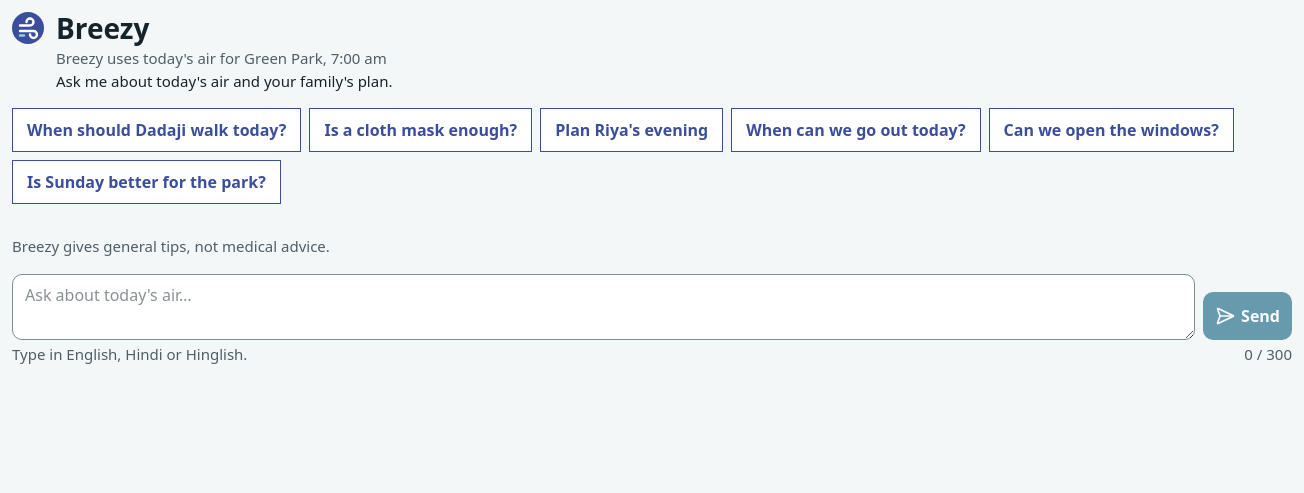
Test: chips and the client wait › says saving is paused when the write quota is used up
This screenshot has width=1304, height=493.
Type "Hi" into the text box named "Your question for Breezy".
click(604, 307); type("Hi")  # box [12,274,1195,340]
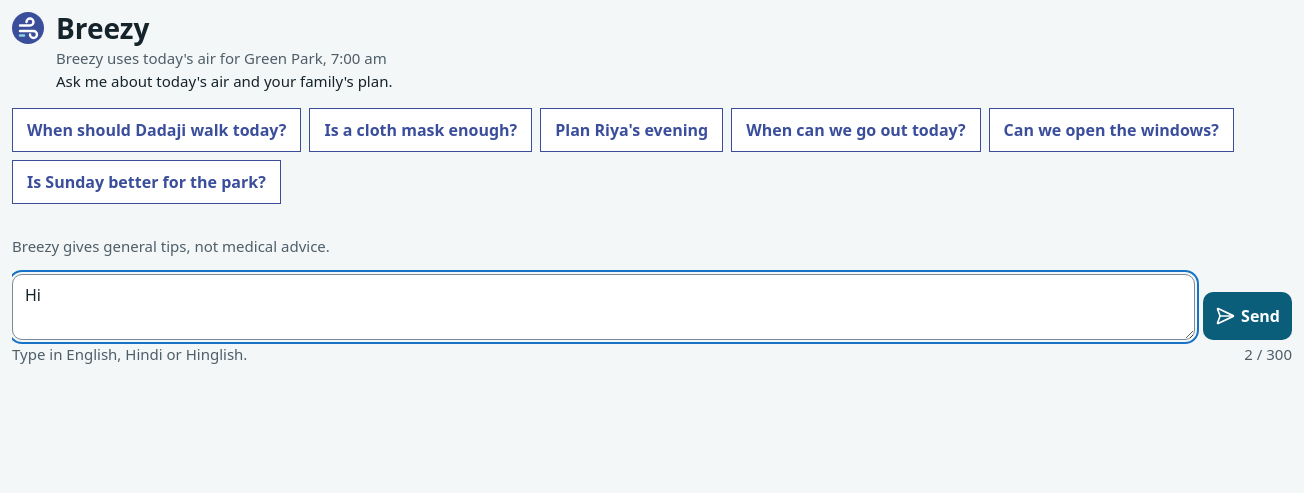
Click the button "Send".
click(1248, 316)  # box [1203,292,1292,340]
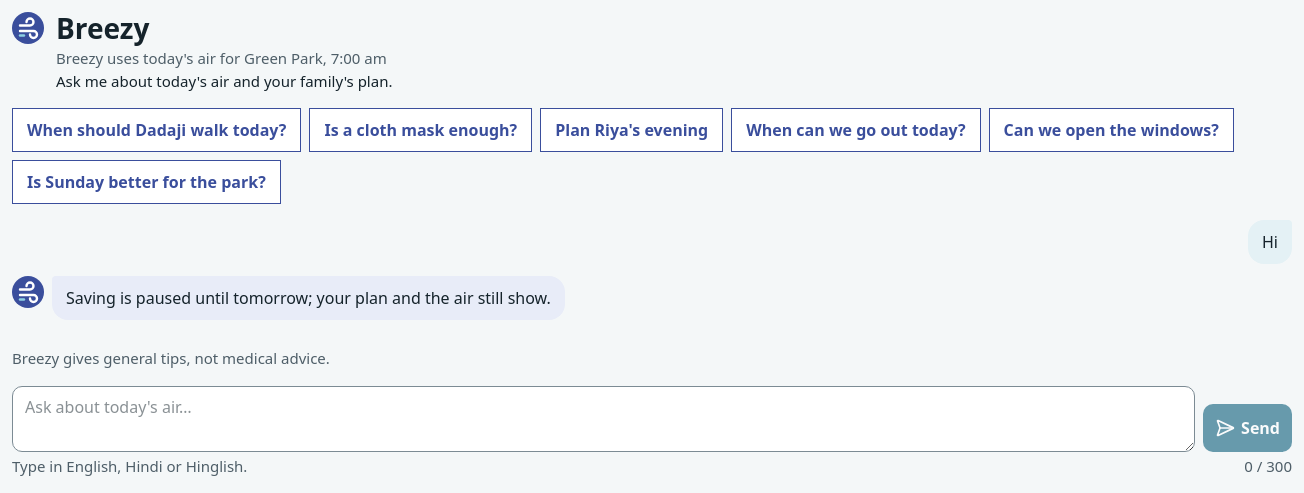
Check: the text "Saving is paused until tomorrow; your plan and the air still show." is shown, box [66,286,551,310]
